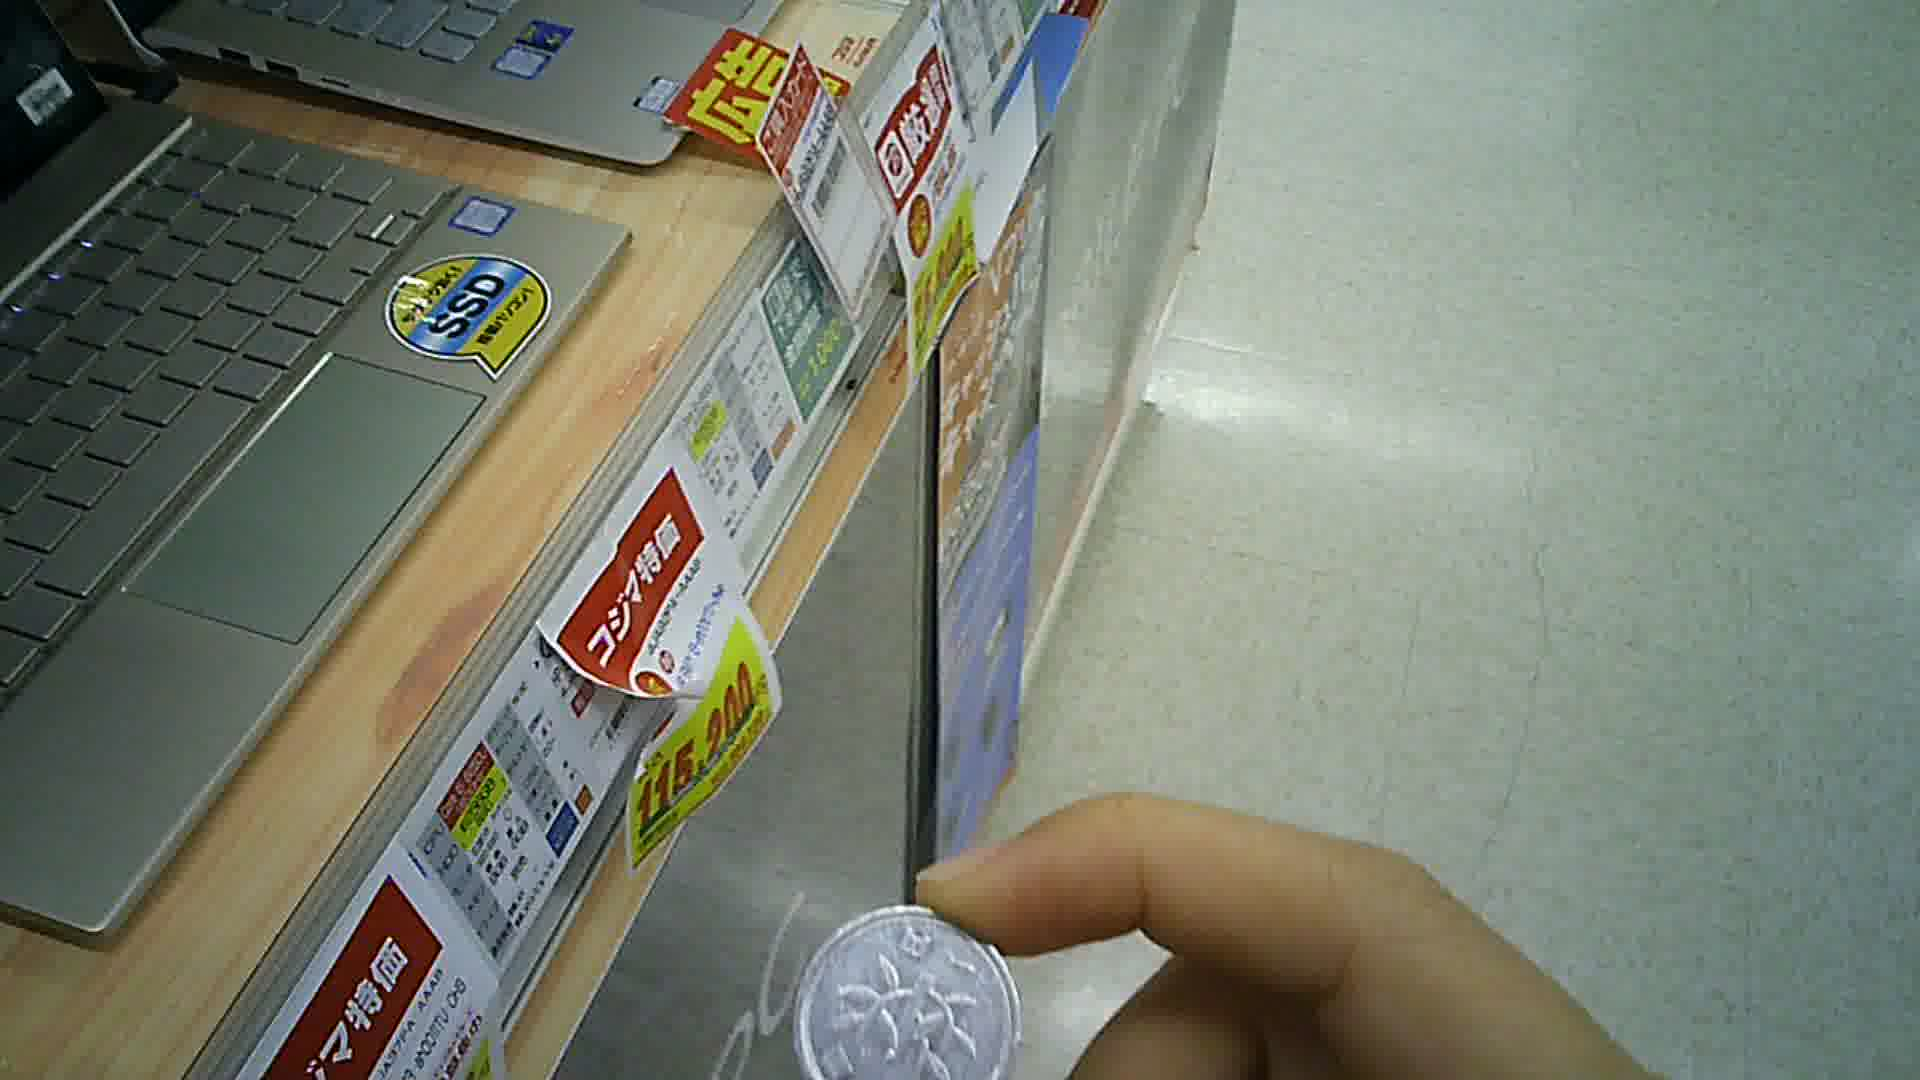1 Yen: (781, 895, 1036, 1075)
